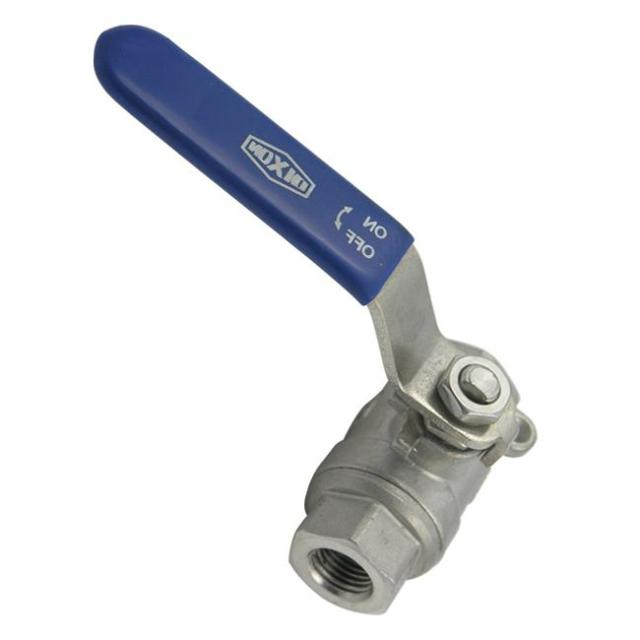closed_valve: (88, 19, 542, 616)
